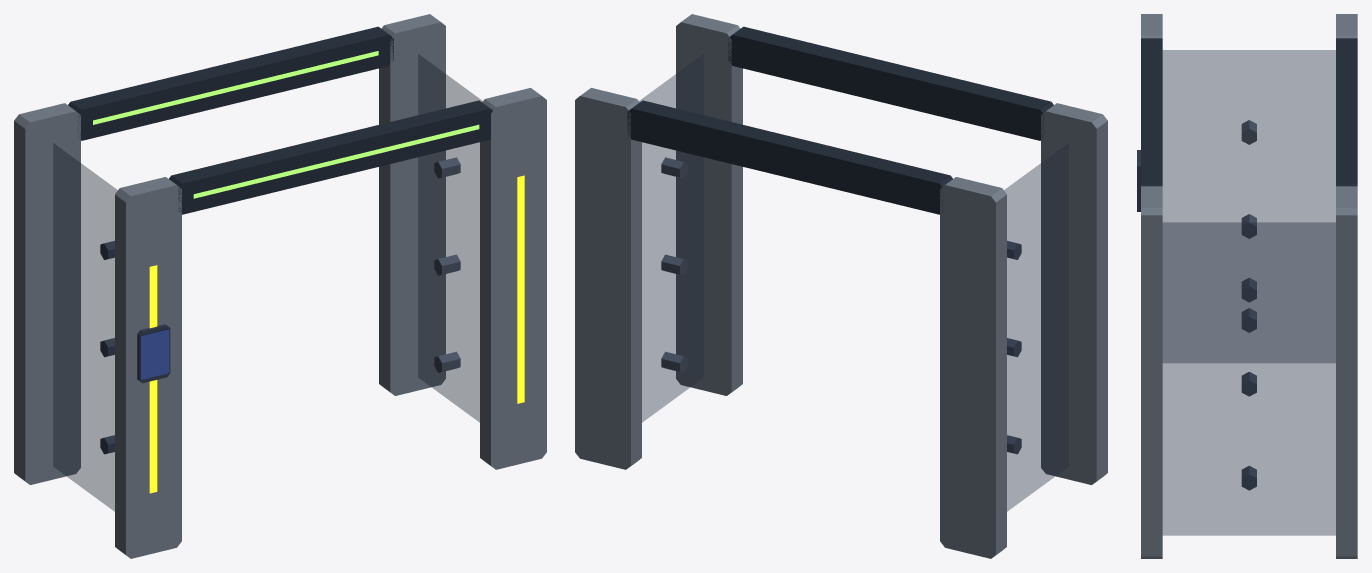
Rendered from fus_decon_shower_arch.glb.
3 renders of one model, left to right at view 1: azimuth 30°, elevation 25°; view 2: azimuth 150°, elevation 25°; view 3: azimuth 270°, elevation 25°, orthographic. The views are drawn at different scales.
Parts seen in each view (by area): view 1: portal_post, shower_side, shower_header, dosimeter_scan, clean_status_arch, spray_nozzle, print; view 2: portal_post, shower_side, shower_header, spray_nozzle; view 3: shower_side, portal_post, shower_header, spray_nozzle.
Boxes of the visible parts, box(x1,y1,x2,y2) form: portal_post: box(14, 14, 546, 558); shower_side: box(53, 54, 482, 511); shower_header: box(68, 26, 492, 214); dosimeter_scan: box(149, 175, 524, 493); clean_status_arch: box(93, 51, 479, 198); spray_nozzle: box(100, 157, 460, 454); print: box(141, 329, 169, 379); portal_post: box(575, 14, 1107, 558); shower_side: box(639, 54, 1068, 511); shower_header: box(627, 26, 1053, 214); spray_nozzle: box(661, 157, 1021, 454); shower_side: box(1162, 50, 1335, 535); portal_post: box(1141, 14, 1357, 558); shower_header: box(1141, 38, 1357, 186); spray_nozzle: box(1241, 120, 1256, 490).
Bounding box in the file's own units: 3.4 × 2.8 × 1.6.
